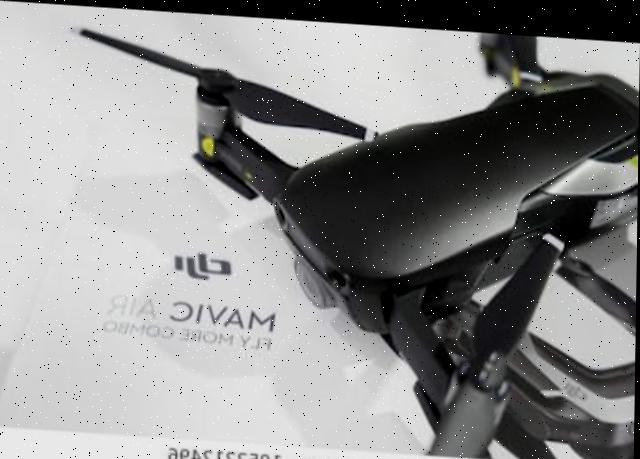drone: (64, 4, 640, 452)
